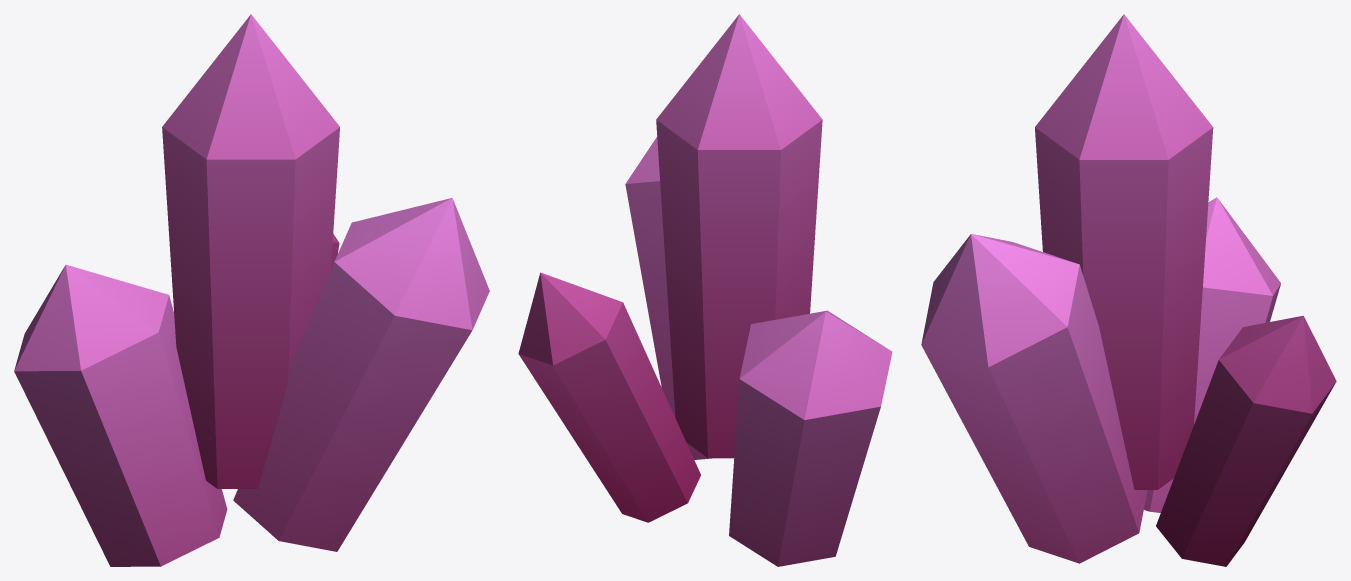
The model's file is Crystal3.fbx.
The picture shows the model from 3 angles, left to right: view 1: azimuth 30°, elevation 25°; view 2: azimuth 150°, elevation 25°; view 3: azimuth 270°, elevation 25°; orthographic projection. The views are drawn at different scales.
Visible parts, largest first — view 1: Окружность.048; view 2: Окружность.048; view 3: Окружность.048.
Boxes of the visible parts, x1=… form: Окружность.048: x1=14, y1=14, x2=489, y2=566; Окружность.048: x1=518, y1=14, x2=892, y2=566; Окружность.048: x1=921, y1=14, x2=1336, y2=566.
Bounding box in the file's own units: 72.9 × 102 × 71.64.
Materials: 1 (1 with a texture image).
